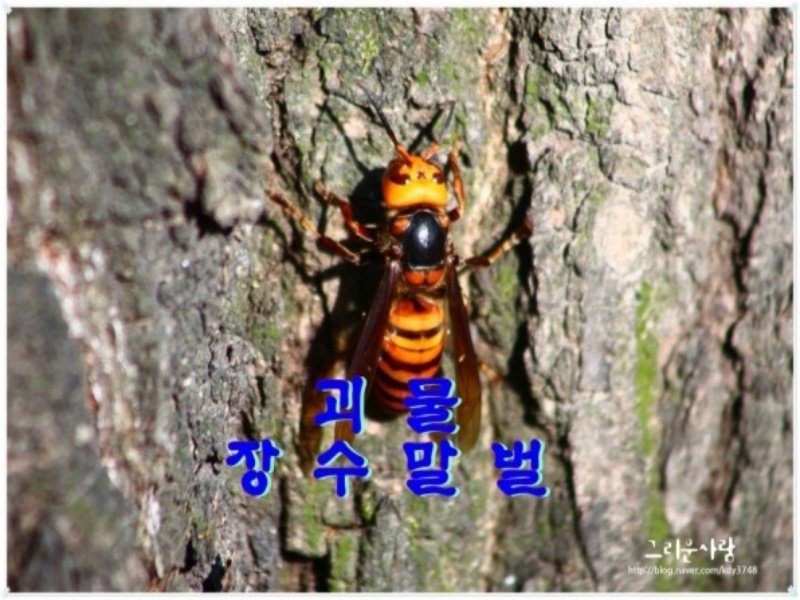asian_giant_hornet: (321, 138, 466, 420)
